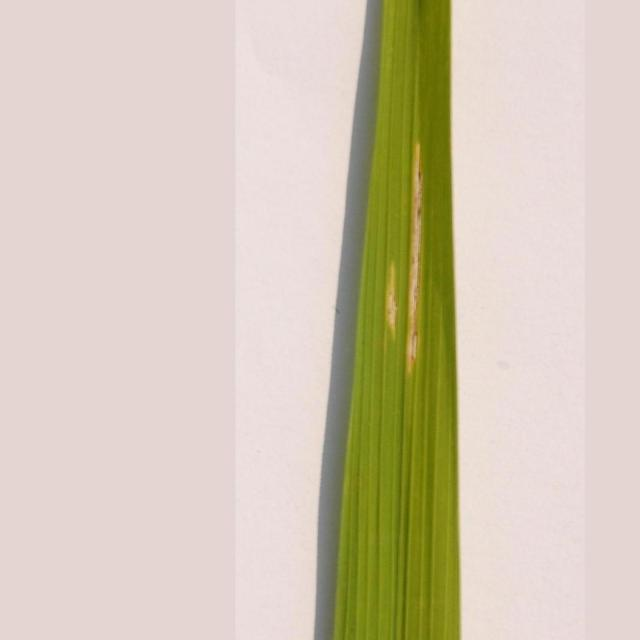leaf blight: (365, 128, 449, 375)
